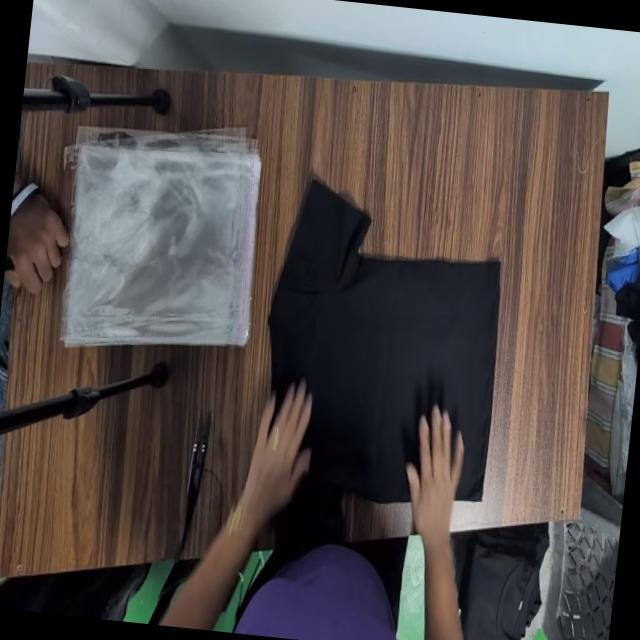new-garment: (268, 180, 497, 537), (268, 182, 497, 500)
